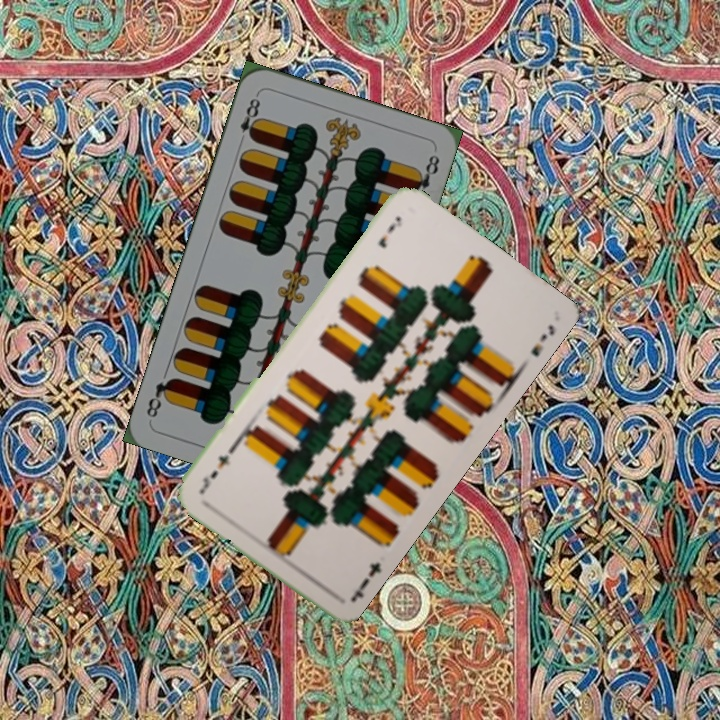E7: (347, 558, 384, 604), (374, 212, 405, 251)
E8: (236, 90, 264, 143)
